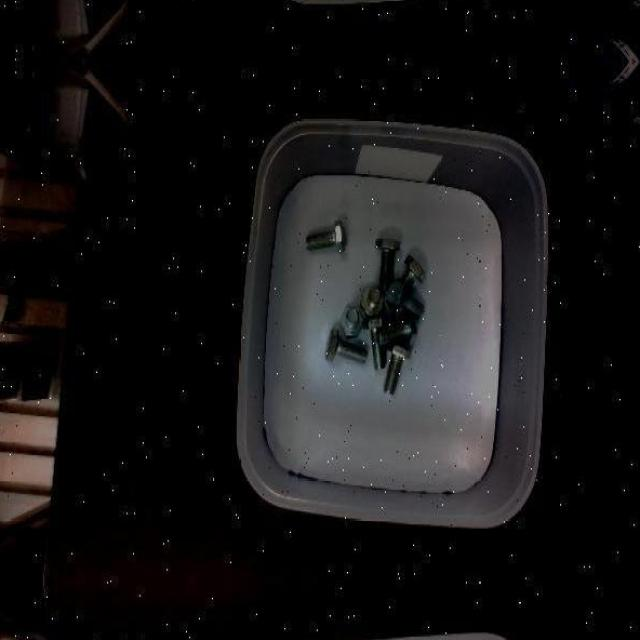screw: (324, 326, 366, 364), (386, 279, 424, 318), (383, 342, 411, 394), (307, 217, 345, 252), (375, 314, 416, 346), (375, 239, 400, 291), (340, 305, 362, 337), (361, 284, 383, 315)
